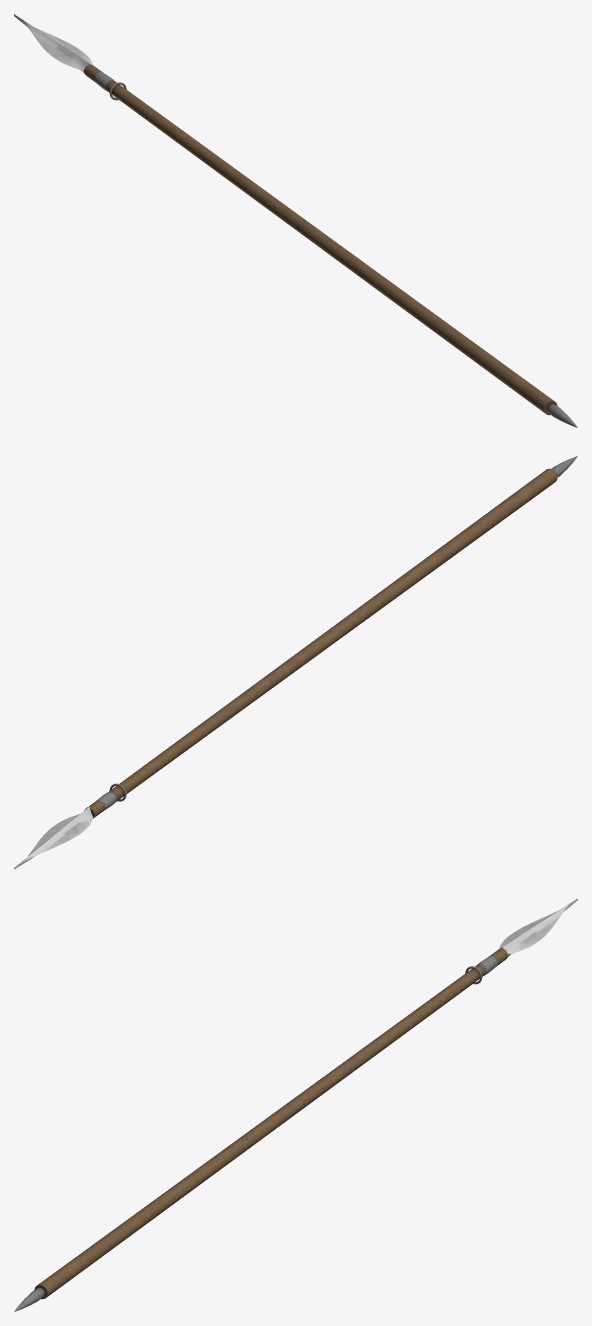
File: spear.glb
3 renders of one model, top to bottom at view 1: azimuth 30°, elevation 25°; view 2: azimuth 150°, elevation 25°; view 3: azimuth 330°, elevation 25°, orthographic.
Visible parts, largest first — view 1: spear; view 2: spear; view 3: spear.
Boxes of the visible parts, x1,y1,x2,y2 form: spear: [14, 14, 577, 427]; spear: [14, 456, 577, 869]; spear: [14, 898, 577, 1311].
Bounding box in the file's own units: 0.0642 × 0.0384 × 2.25.
1 material, 1 textured.
